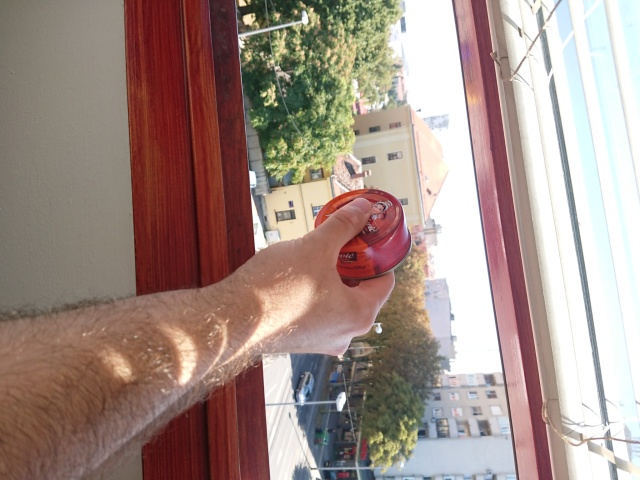Gavrilovic Pork Liver Pate 100g: (312, 186, 414, 283)
